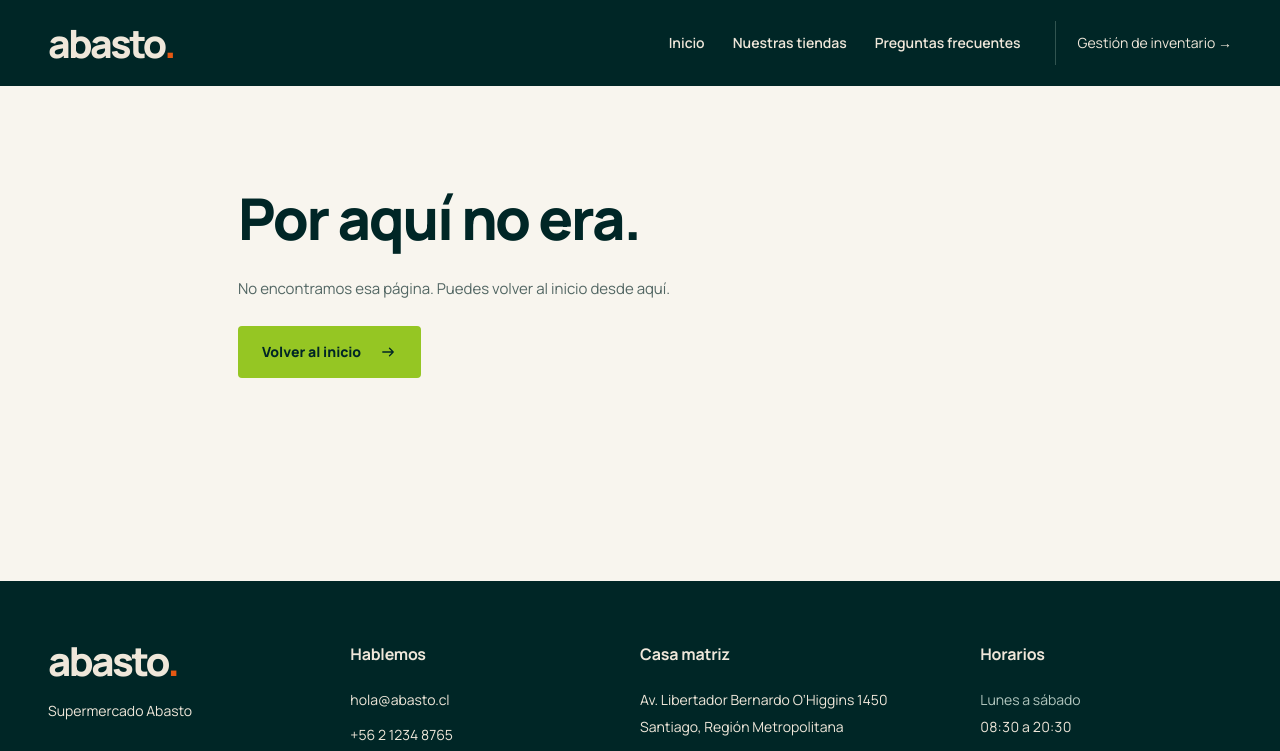
it: Navegación del supermercado › muestra la página 404 para /no-existe y permite volver al inicio
Check: the heading "Por aquí no era." is shown, box [238,179,640,257]
Click the link "Volver al inicio". click: (330, 352)
box: [238,326,421,378]
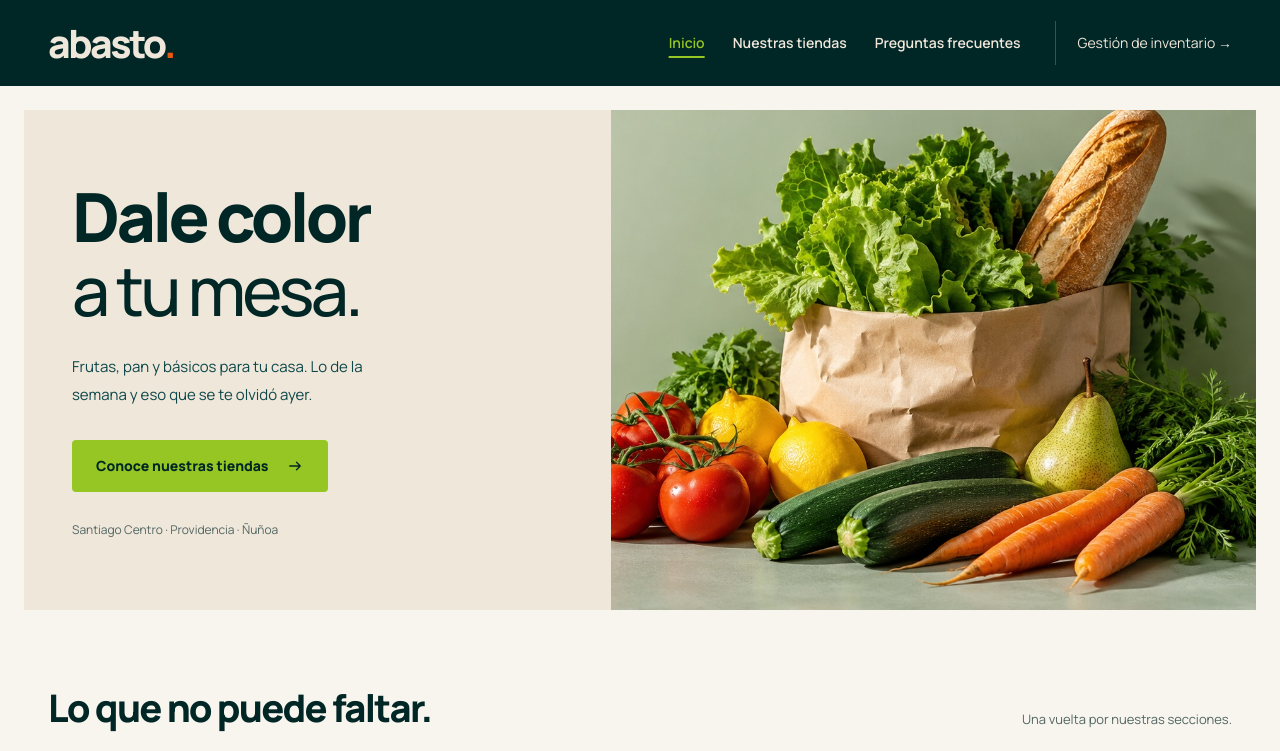
Check: the 1st heading is shown, box [72,180,412,327]
